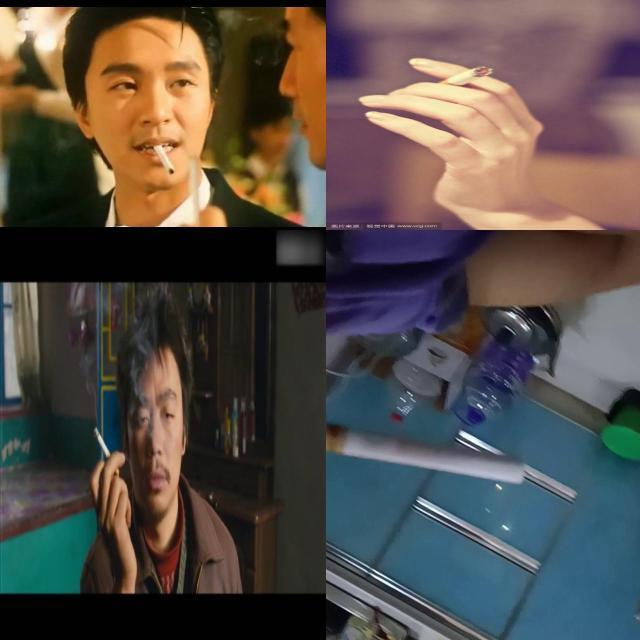smoking: (326, 419, 527, 486), (93, 422, 121, 478), (435, 66, 495, 86), (152, 144, 175, 177)
